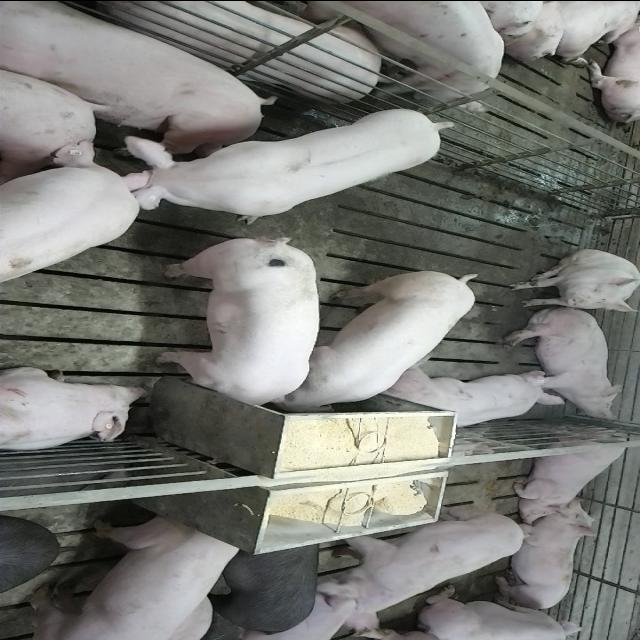Feeding: (273, 264, 480, 412), (156, 232, 322, 408)
Lateral_lying: (0, 5, 274, 158), (501, 305, 627, 419)
Sitting: (506, 426, 636, 514), (506, 248, 638, 312)
Standing: (104, 104, 452, 220), (12, 516, 246, 638), (318, 509, 536, 632), (289, 0, 512, 107), (0, 142, 142, 286), (207, 540, 321, 637)
Sternal_lying: (0, 366, 150, 453), (489, 504, 601, 612), (382, 367, 568, 431), (410, 586, 594, 637)
